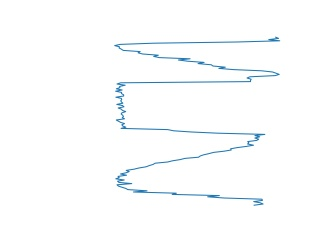distributaryChannelFill: (110, 73, 268, 144)
mouthBar: (112, 34, 283, 78)
underwaterDistributaryChannel: (112, 139, 266, 208)
